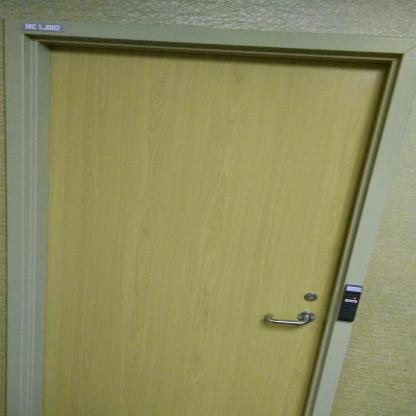door: (53, 51, 363, 415)
lever: (264, 309, 314, 330)
